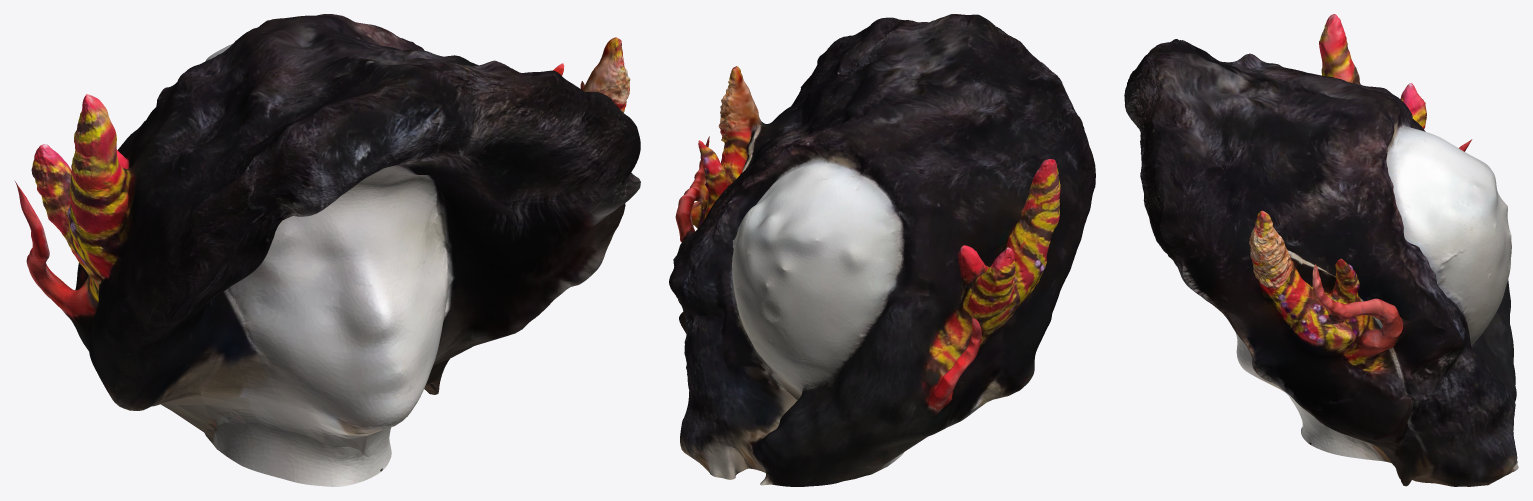
The model's file is Shuo_Xu.glb.
The picture shows the model from 3 angles, left to right: view 1: azimuth 30°, elevation 25°; view 2: azimuth 150°, elevation 25°; view 3: azimuth 270°, elevation 25°; orthographic projection. The views are drawn at different scales.
Parts seen in each view (by area): view 1: Mesh_0.010; view 2: Mesh_0.010; view 3: Mesh_0.010.
Part boxes in pixels (bbox=[...]): Mesh_0.010: bbox=[14, 14, 640, 486]; Mesh_0.010: bbox=[669, 14, 1095, 486]; Mesh_0.010: bbox=[1124, 14, 1518, 486].
Size of the model in its own units: 3.98 by 3.63 by 3.51.
Materials: 1 (1 with a texture image).
